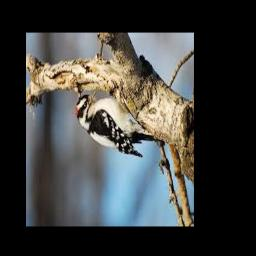Woodpecker: (76, 89, 160, 158)
